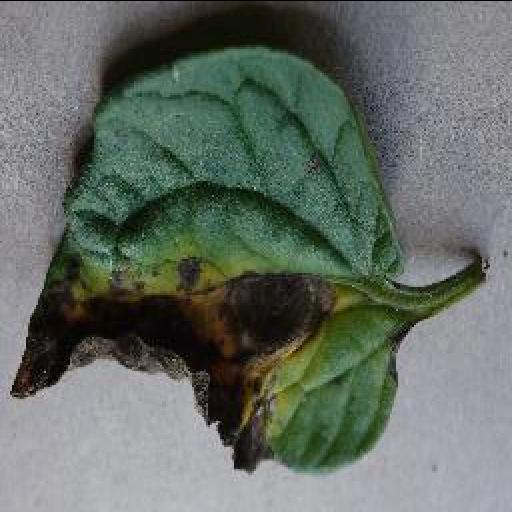Early Blight: (6, 44, 408, 477)
